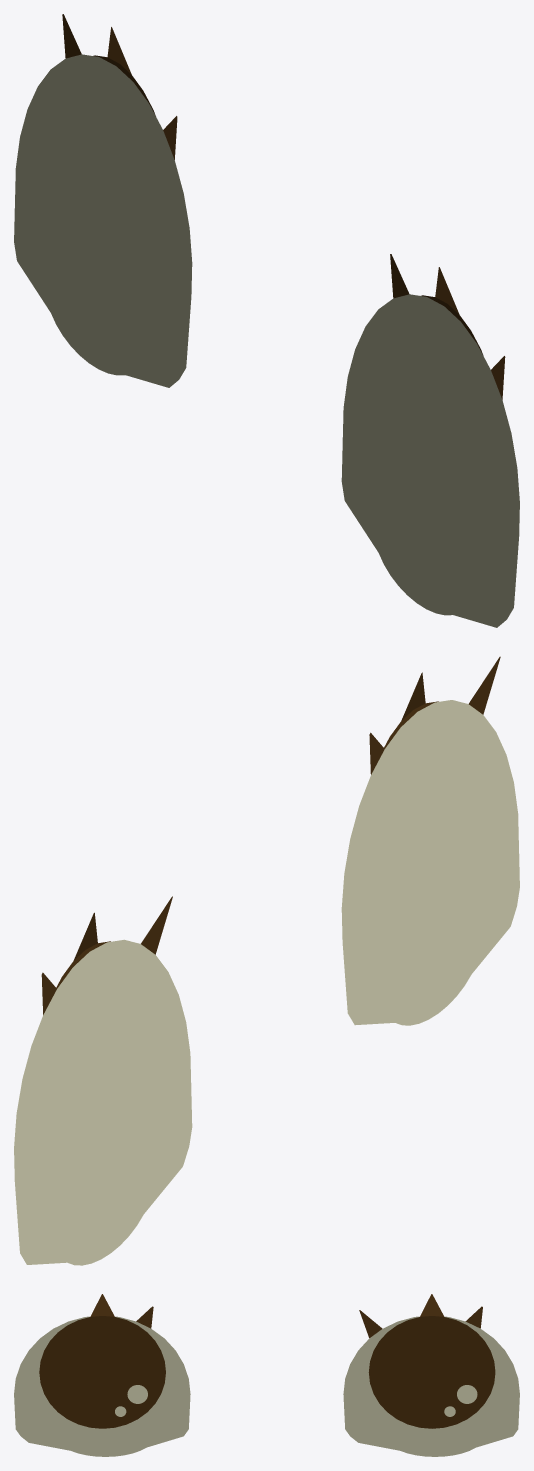
Rendered from StatiaEyes.glb.
The picture shows the model from 3 angles, top to bottom: view 1: azimuth 30°, elevation 25°; view 2: azimuth 150°, elevation 25°; view 3: azimuth 270°, elevation 25°; orthographic projection. The views are drawn at different scales.
Parts seen in each view (by area): view 1: StatiaEyes; view 2: StatiaEyes; view 3: StatiaEyes.
Part boxes in pixels (x1,y1,x2,y2): StatiaEyes: [14, 14, 519, 627]; StatiaEyes: [14, 656, 519, 1265]; StatiaEyes: [14, 1294, 519, 1456].
Bounding box in the file's own units: 0.1102 × 1.25 × 3.41.
